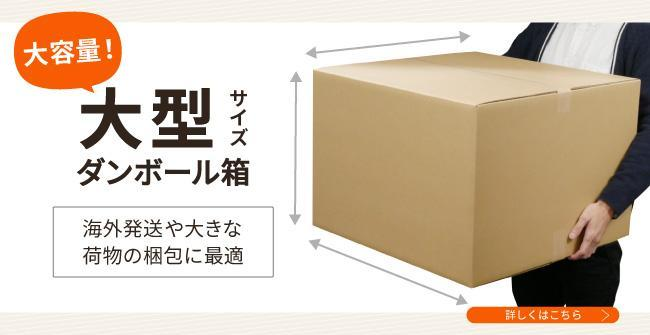box: (300, 45, 636, 288)
